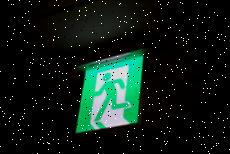emergency_exit: (74, 48, 146, 134)
